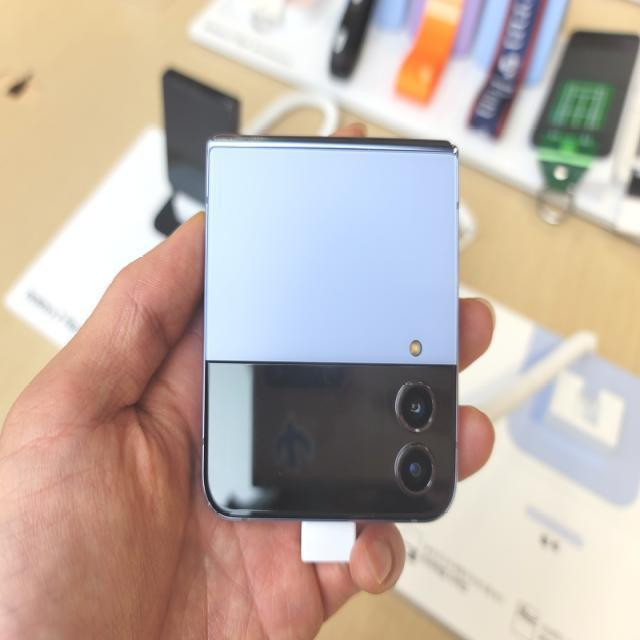phone: (201, 130, 457, 526)
